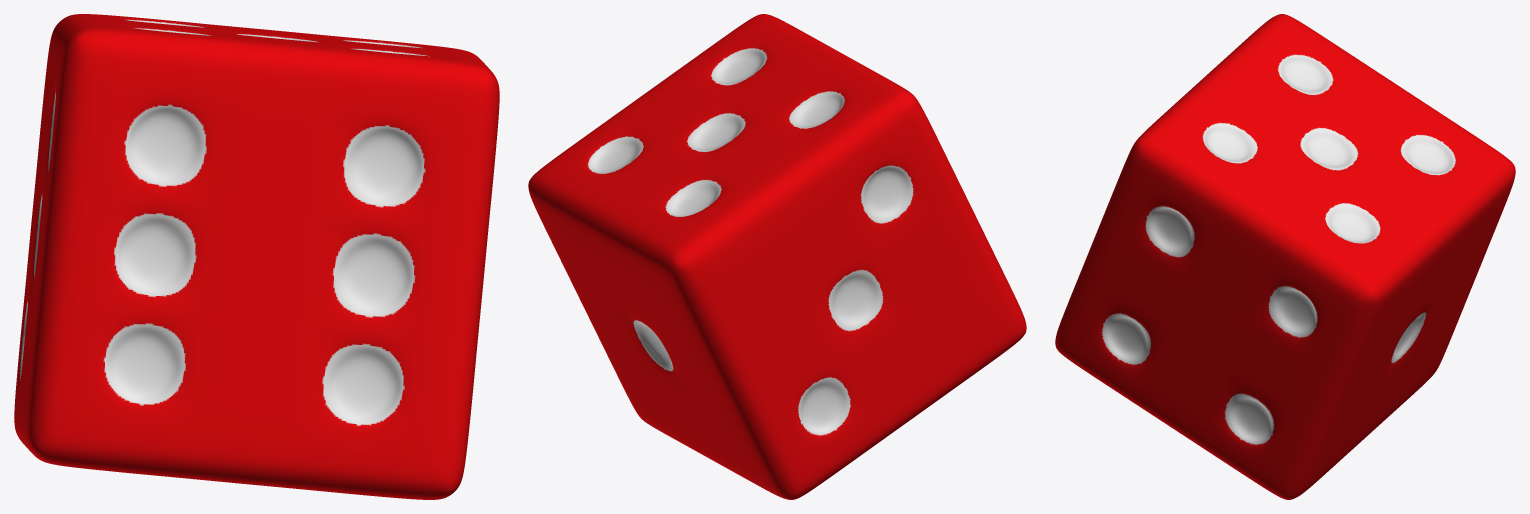
The model's file is dado.glb.
3 renders of one model, left to right at view 1: azimuth 30°, elevation 25°; view 2: azimuth 150°, elevation 25°; view 3: azimuth 270°, elevation 25°, orthographic. The views are drawn at different scales.
Visible parts, largest first — view 1: Dice; view 2: Dice; view 3: Dice.
Part boxes in pixels (x1,y1,x2,y2): Dice: (14,14,499,499); Dice: (528,14,1026,499); Dice: (1055,14,1515,499).
Bounding box in the file's own units: 0.8648 × 0.7826 × 0.8853.
2 materials, 1 textured.
